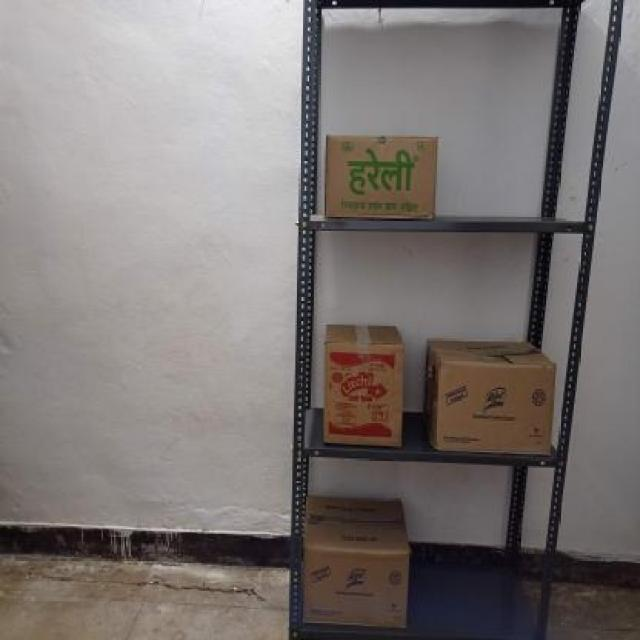box: (434, 363, 557, 448), (325, 136, 438, 216), (299, 549, 410, 626), (325, 342, 403, 442)
